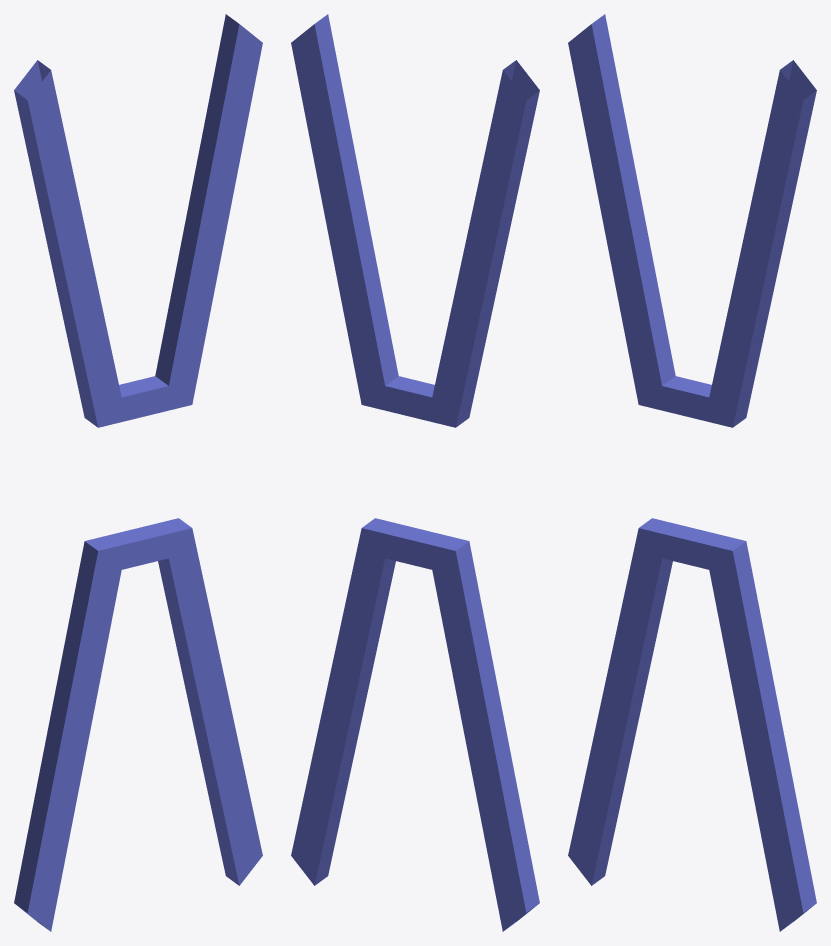
Rendered from SM_waveForm 1.FBX.
The picture shows the model from 3 angles, left to right: view 1: azimuth 30°, elevation 25°; view 2: azimuth 150°, elevation 25°; view 3: azimuth 330°, elevation 25°; orthographic projection.
Parts seen in each view (by area): view 1: SM_waveForm; view 2: SM_waveForm; view 3: SM_waveForm.
Boxes of the visible parts, left/top/right/bottom form: SM_waveForm: left=14, top=14, right=262, bottom=931; SM_waveForm: left=291, top=14, right=539, bottom=931; SM_waveForm: left=568, top=14, right=816, bottom=931.
Bounding box in the file's own units: 400 × 1400 × 40.
